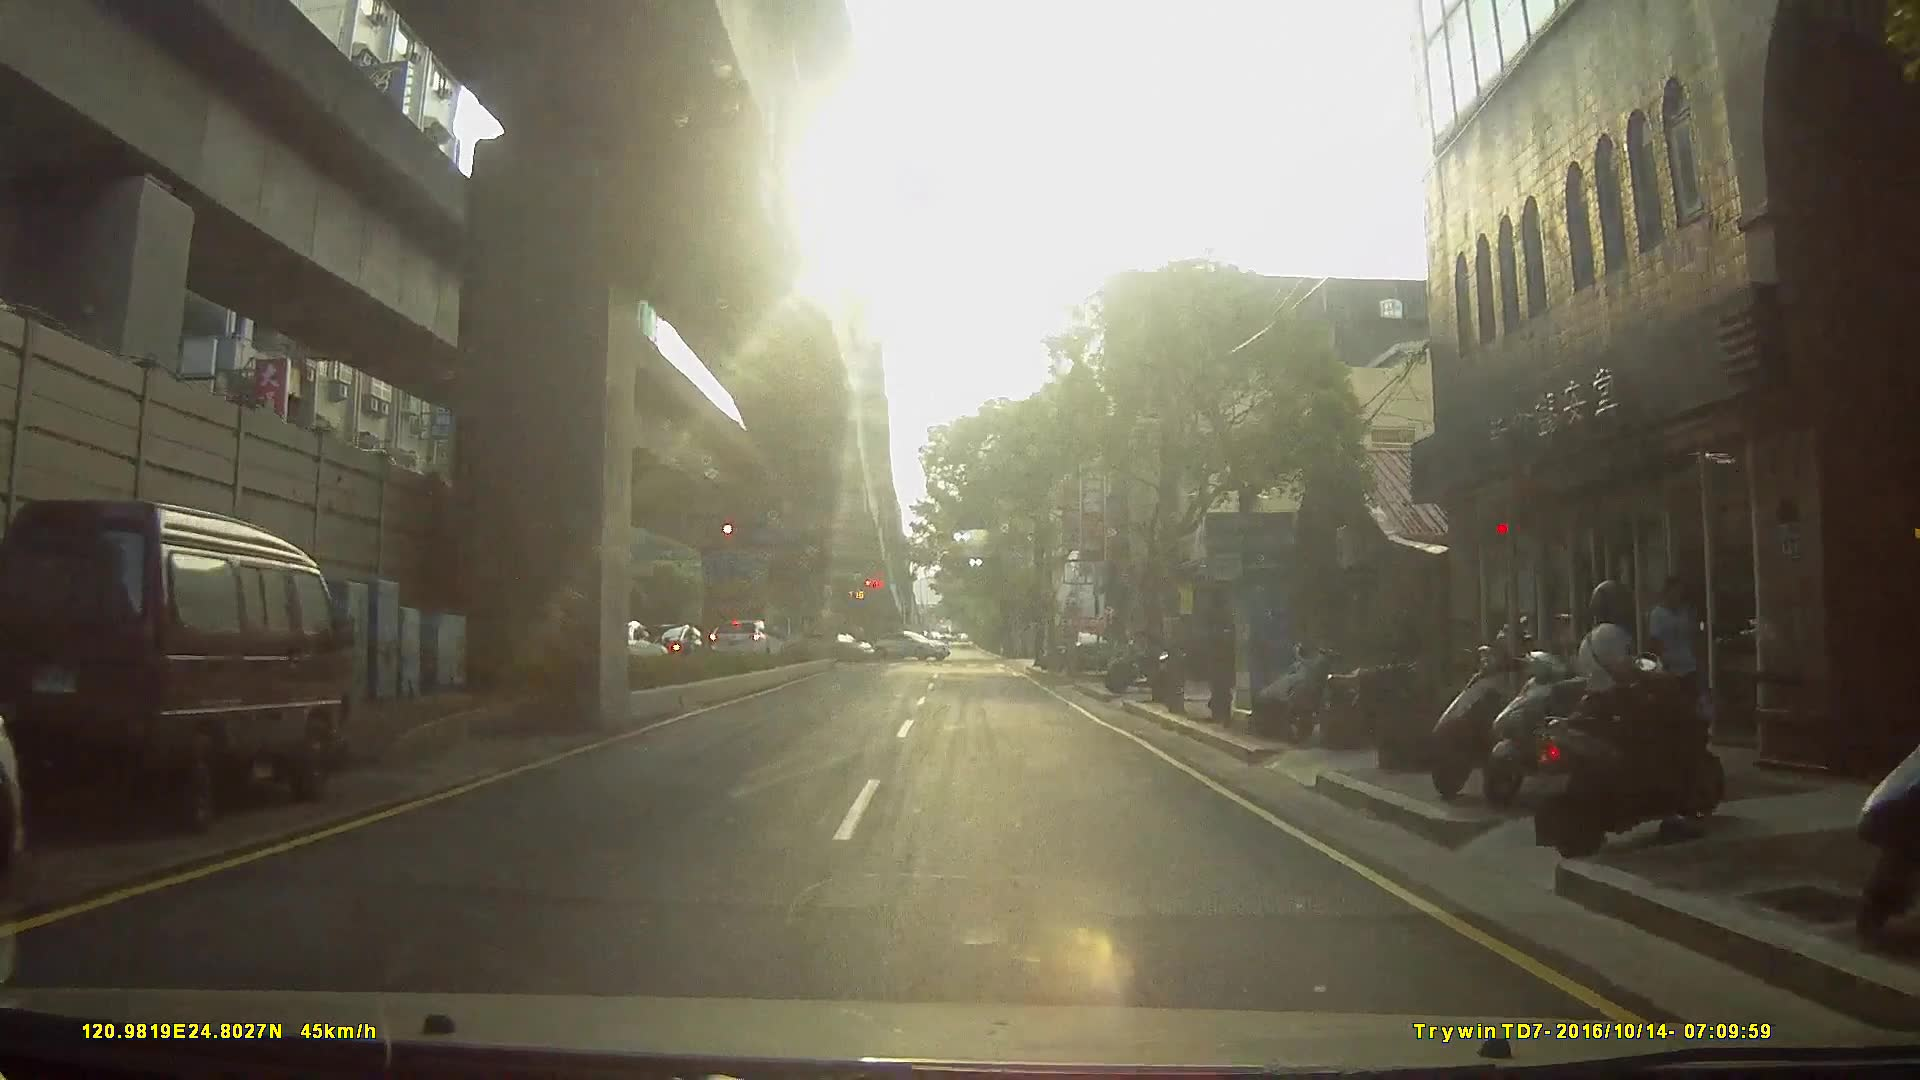pedestrian: (1644, 569, 1714, 772)
rider: (1538, 583, 1754, 850)
vehicle: (7, 485, 377, 849), (776, 628, 876, 666), (707, 617, 784, 663), (1064, 625, 1118, 674), (873, 629, 954, 659)
